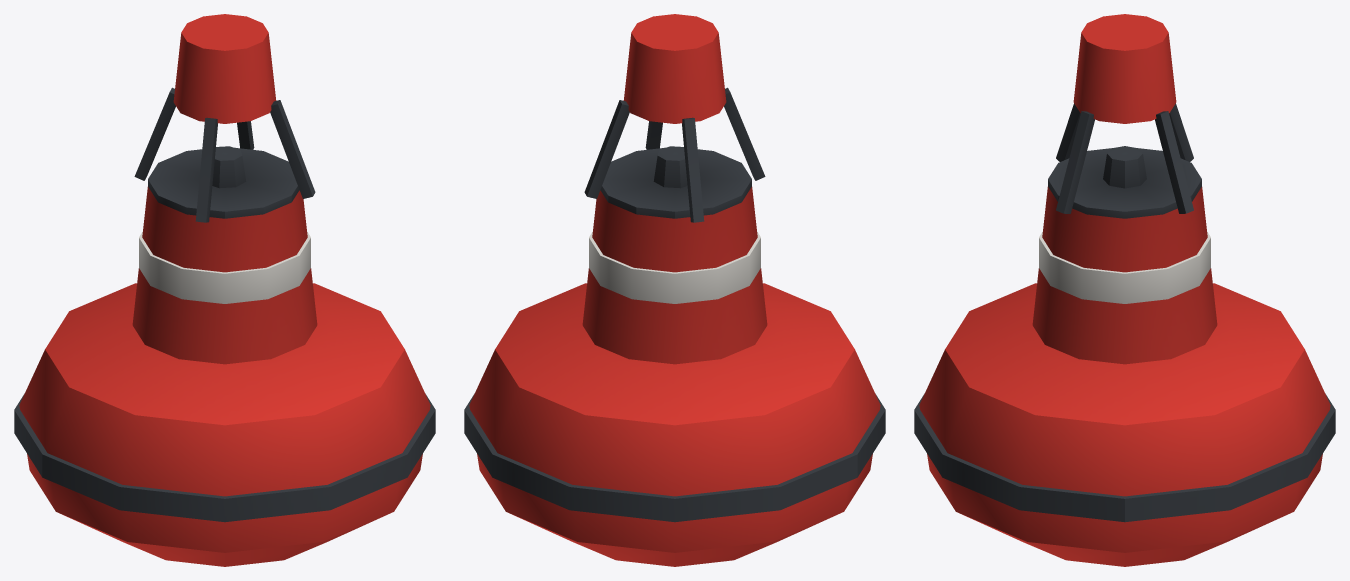
Rendered from buoy.glb.
The picture shows the model from 3 angles, left to right: view 1: azimuth 30°, elevation 25°; view 2: azimuth 150°, elevation 25°; view 3: azimuth 270°, elevation 25°; orthographic projection.
Parts seen in each view (by area): view 1: body, frame, band; view 2: body, frame, band; view 3: body, frame, band.
Boxes of the visible parts, x1=… form: body: x1=19, y1=14, x2=430, y2=566; frame: x1=14, y1=87, x2=435, y2=522; band: x1=139, y1=231, x2=310, y2=303; body: x1=469, y1=14, x2=880, y2=566; frame: x1=464, y1=87, x2=885, y2=522; band: x1=589, y1=231, x2=760, y2=303; body: x1=919, y1=14, x2=1330, y2=566; frame: x1=914, y1=103, x2=1335, y2=522; band: x1=1039, y1=231, x2=1210, y2=303.
Bounding box in the file's own units: 1.64 × 2.1 × 1.64.
